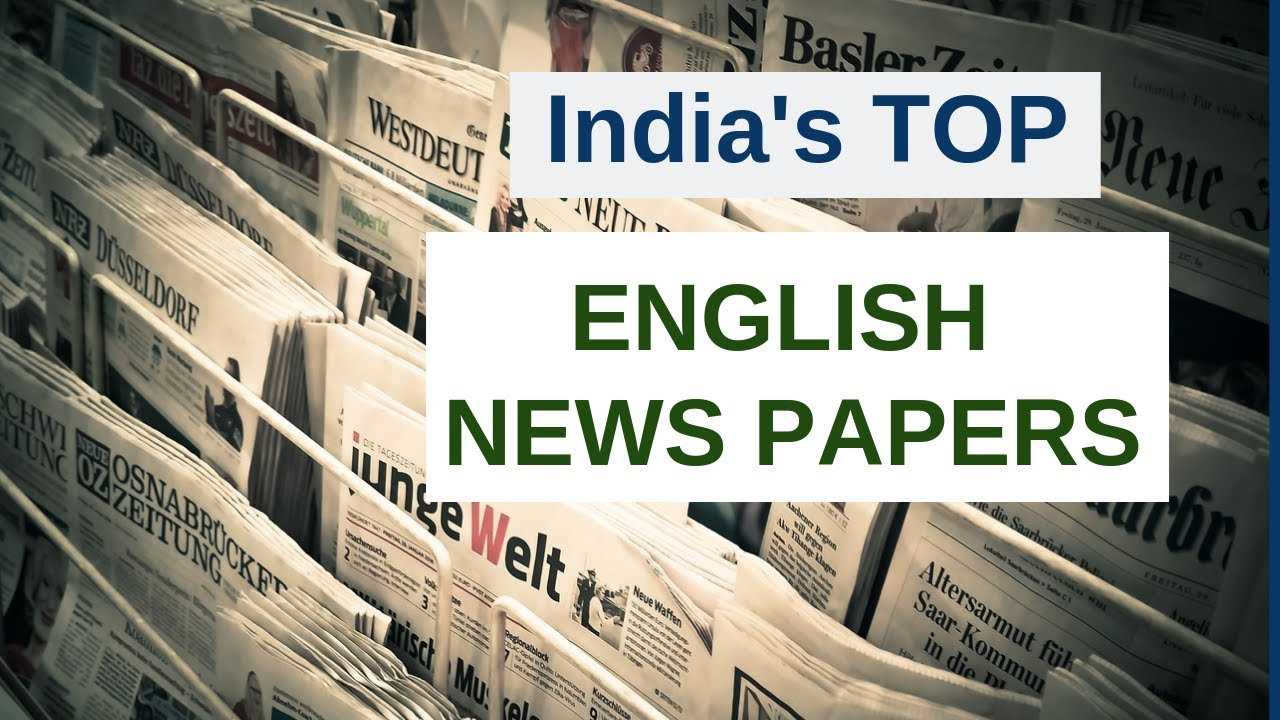news_paper: (230, 1, 1135, 614), (234, 281, 1050, 720), (5, 17, 579, 495), (520, 1, 1274, 328), (1, 239, 442, 683), (723, 369, 1280, 719)
